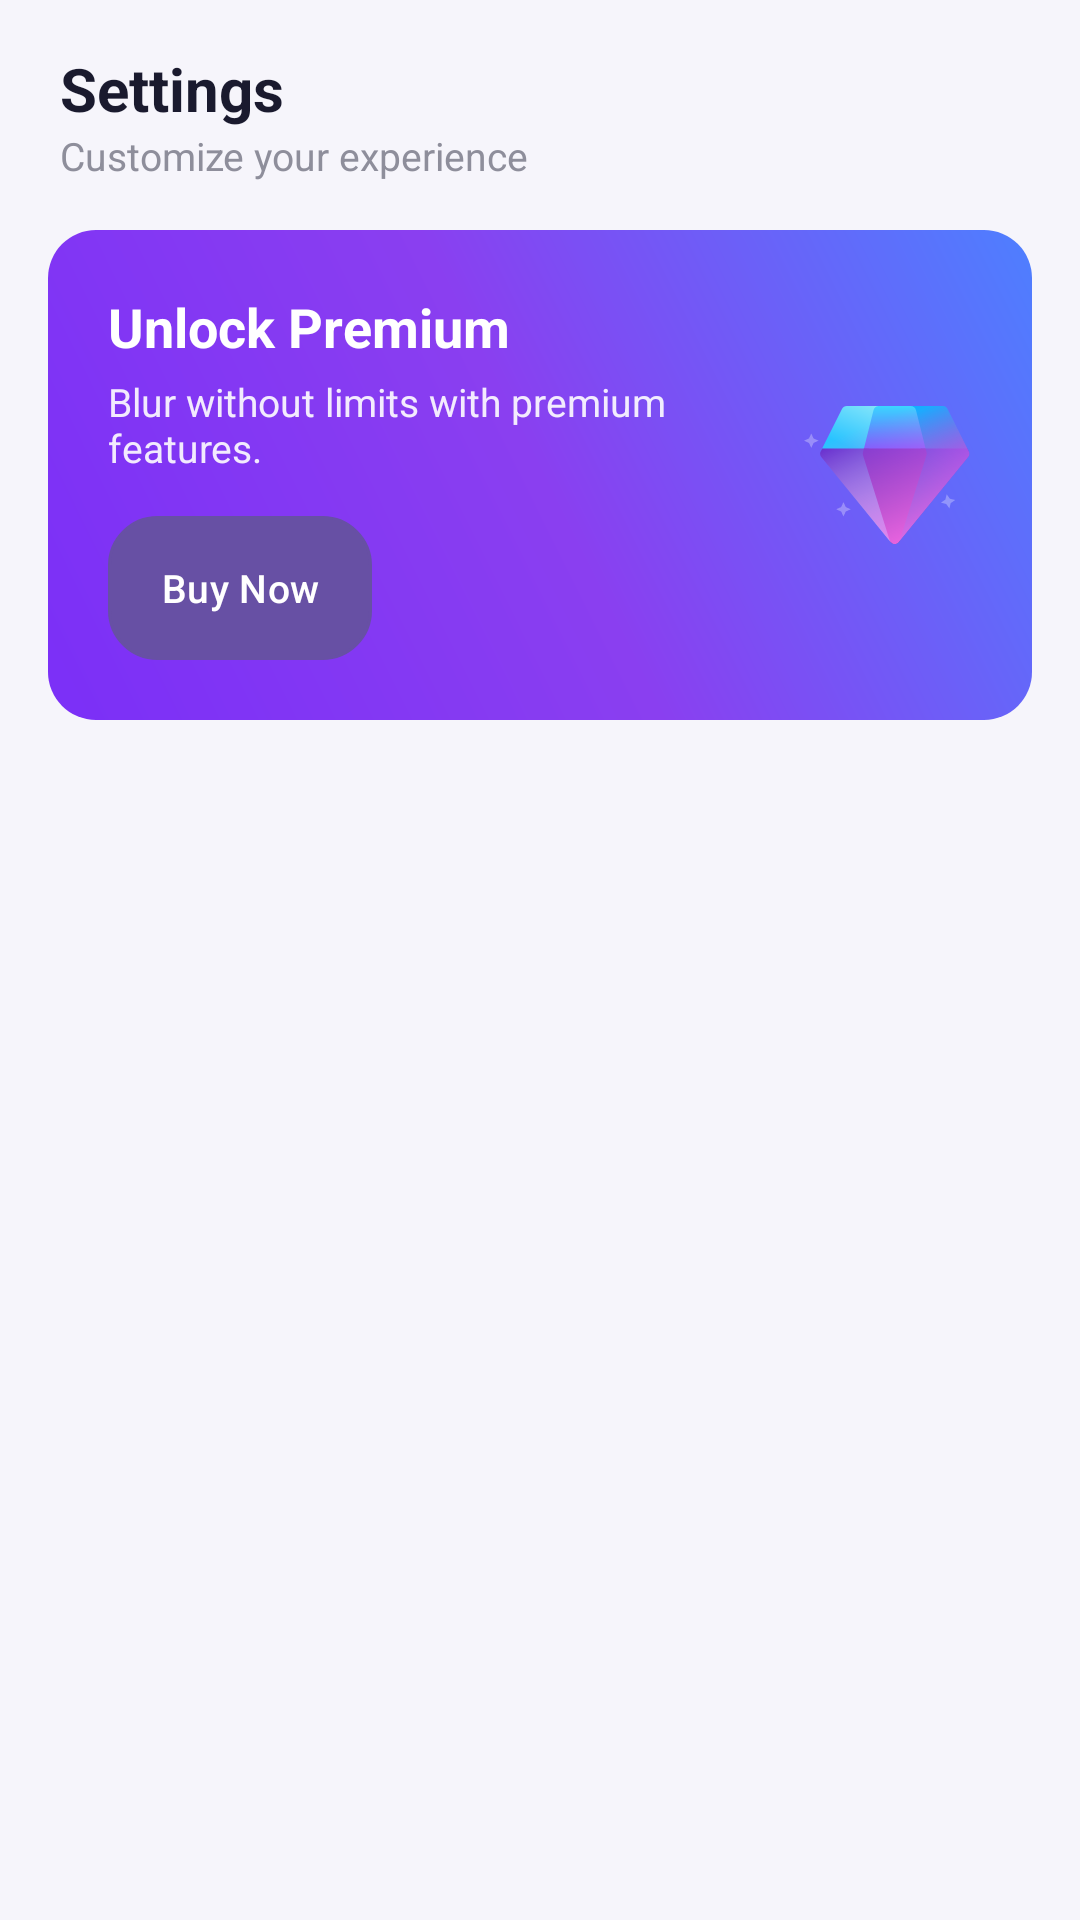

Where icons sit on this 1080x1920 app screen, as bbox=[x1, y1, x2, y2]:
premium diamond: bbox=[804, 406, 970, 544]
